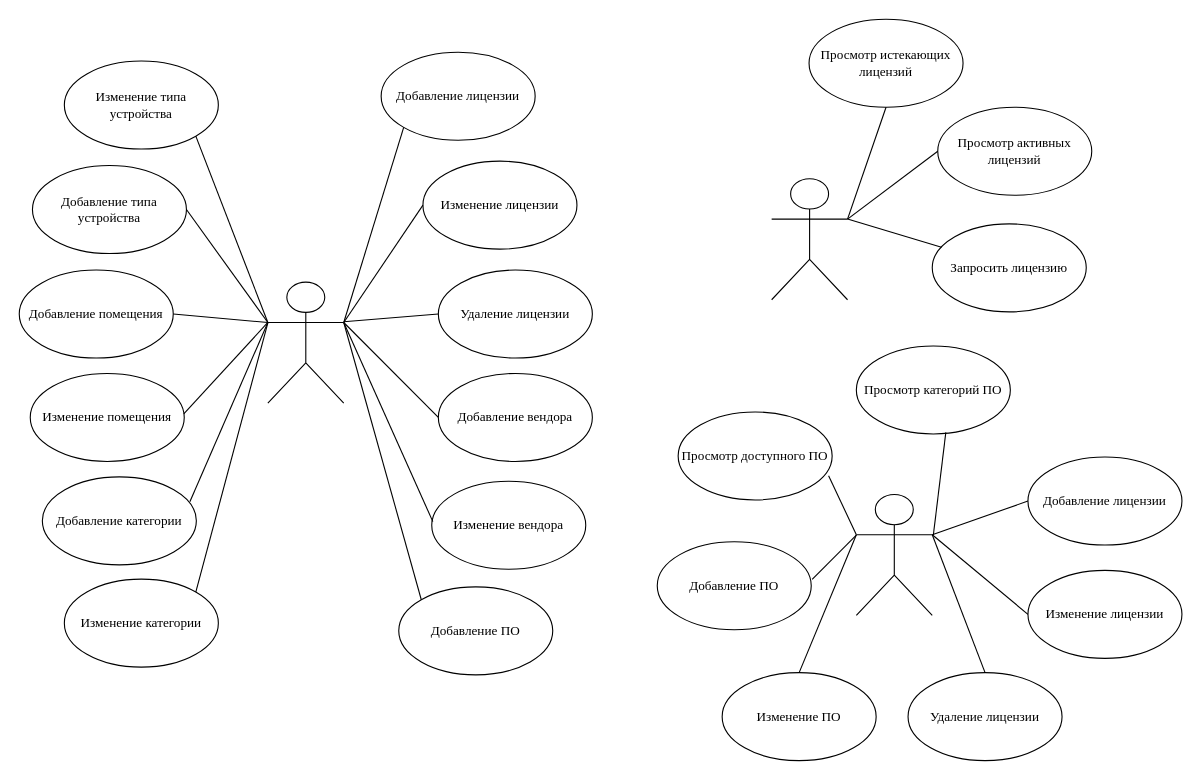
The diagram is 1201 pixels wide and 780 high, and some of its shapes have lost their labels. Here are the shapes that lost their labels. From the top down, the centre of each, then its label:
At (809,239): "Пользователь".
At (305,342): "Администратор".
At (893,554): "Вендор".
